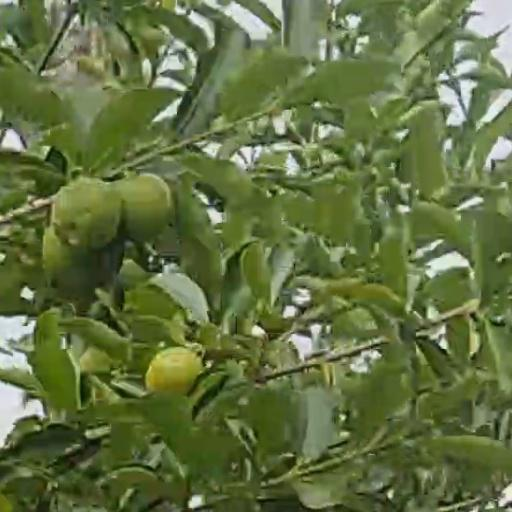acerola: (53, 180, 120, 251), (122, 176, 171, 241), (149, 347, 201, 397)
